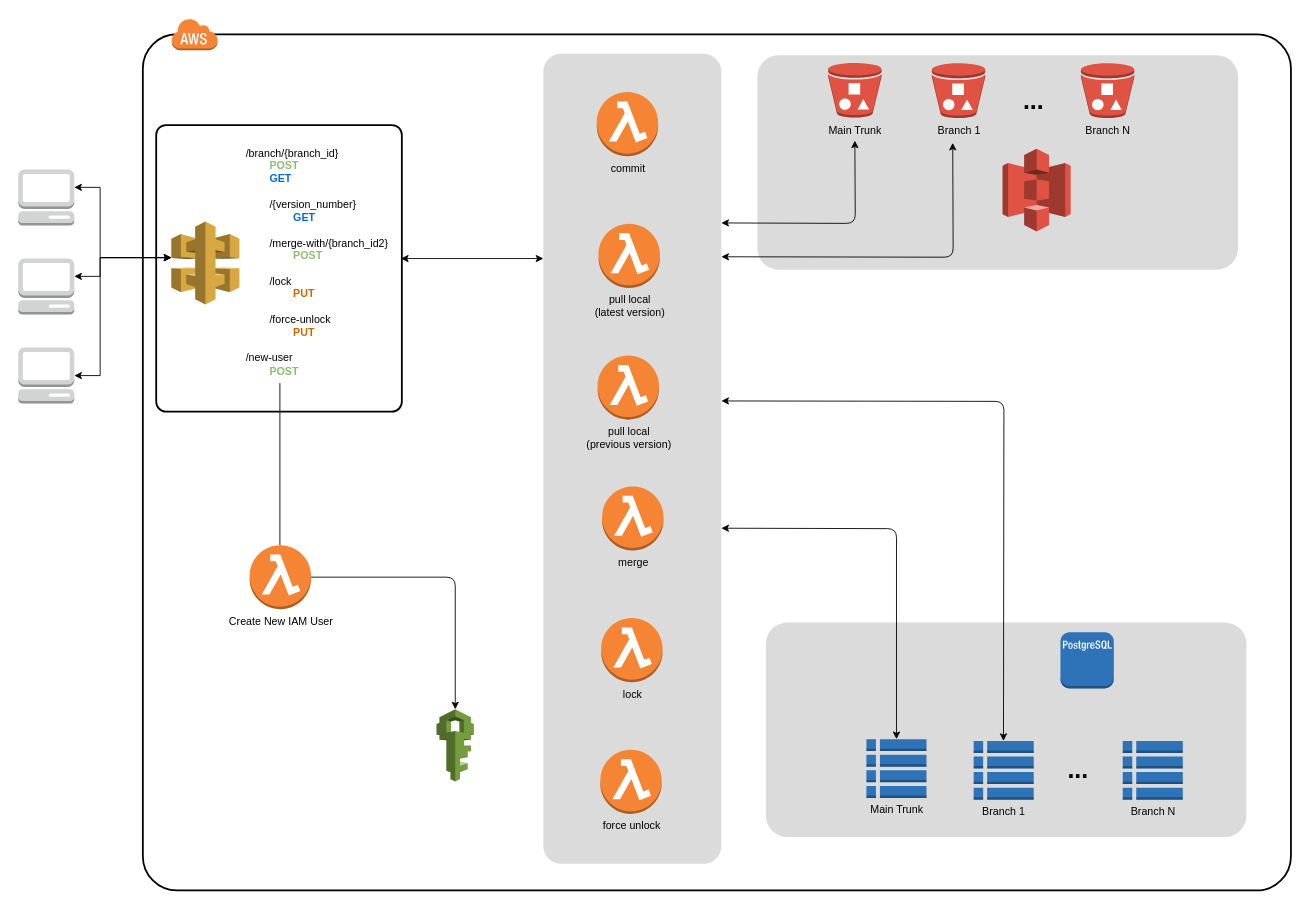
The diagram is 1307 pixels wide and 906 high, and some of its shapes have lost their labels. The centre of each missing label's shape, as x and y in pixels:
"IAM Users" goes at point (455, 744).
"Latest Version One Bucket Per Branch" goes at point (1036, 190).
"Previous Versions As Delta Files" goes at point (1087, 659).
